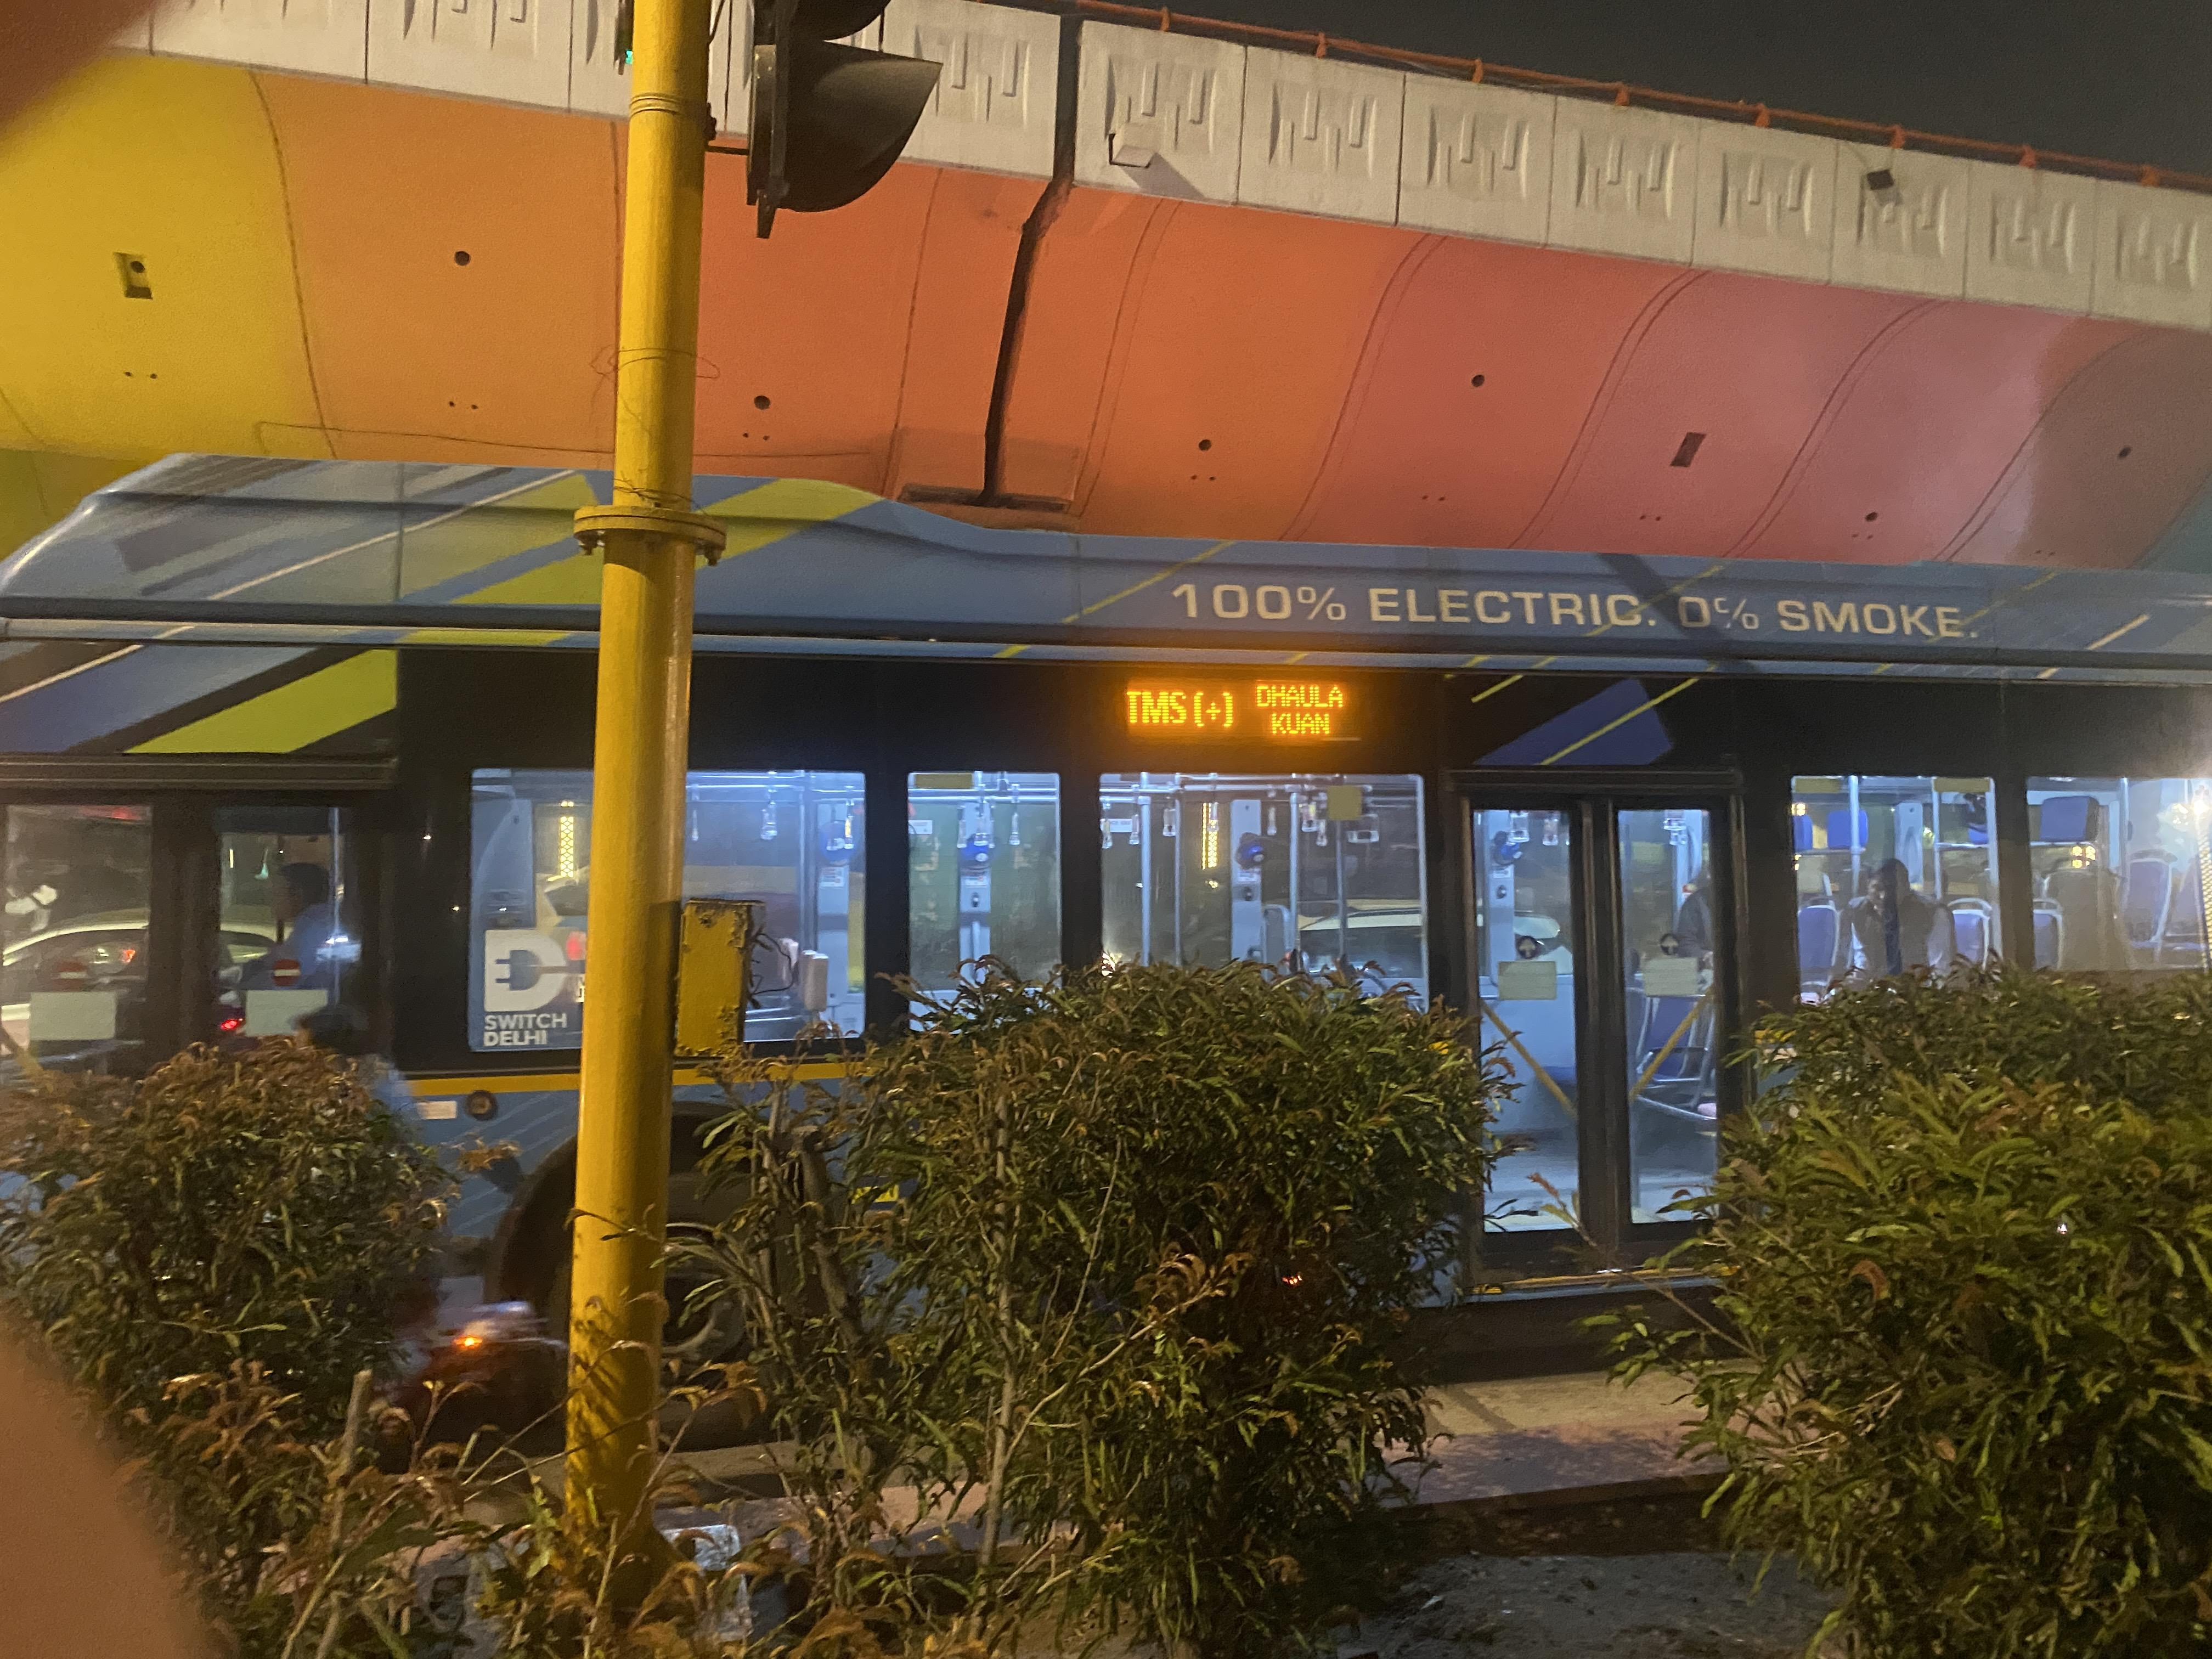Bus: (0, 434, 2212, 1563)
Display Board: (1082, 631, 1437, 779)
